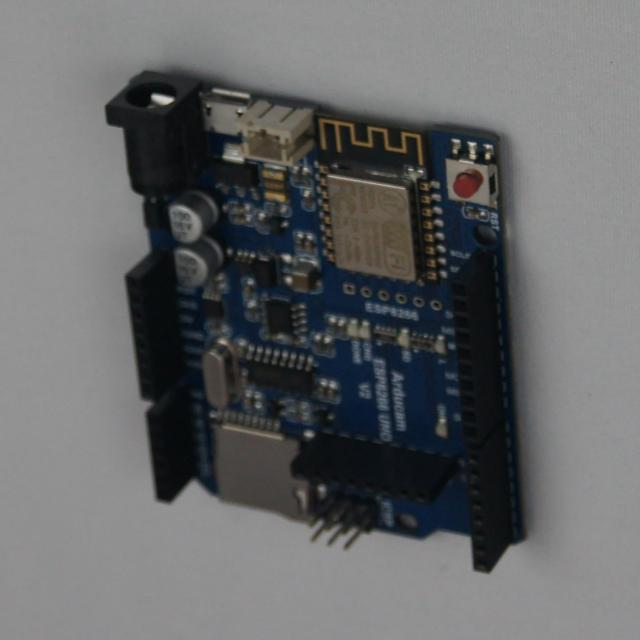Arduino Uno Camera Shield: (106, 72, 524, 572)
